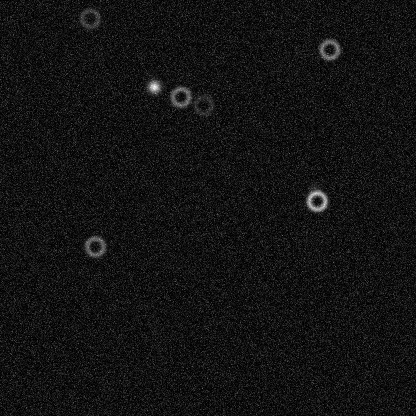Ring: (168, 84, 192, 108), (191, 93, 215, 117), (317, 37, 341, 61), (77, 6, 101, 30), (82, 234, 106, 258), (304, 188, 328, 212)
Spot: (306, 180, 322, 196), (145, 78, 161, 94)
